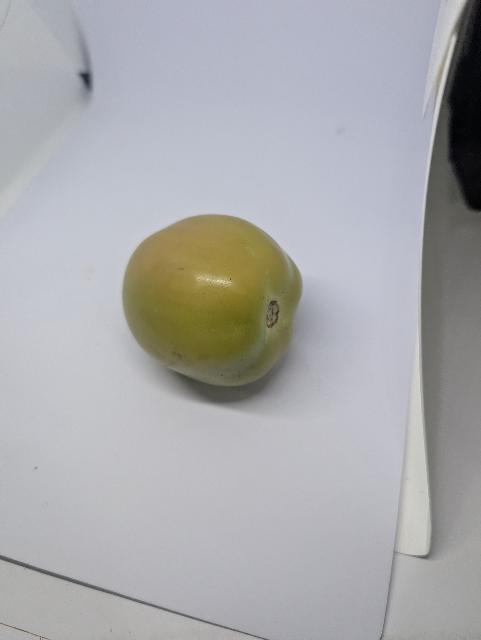breaker: (123, 215, 303, 386)
